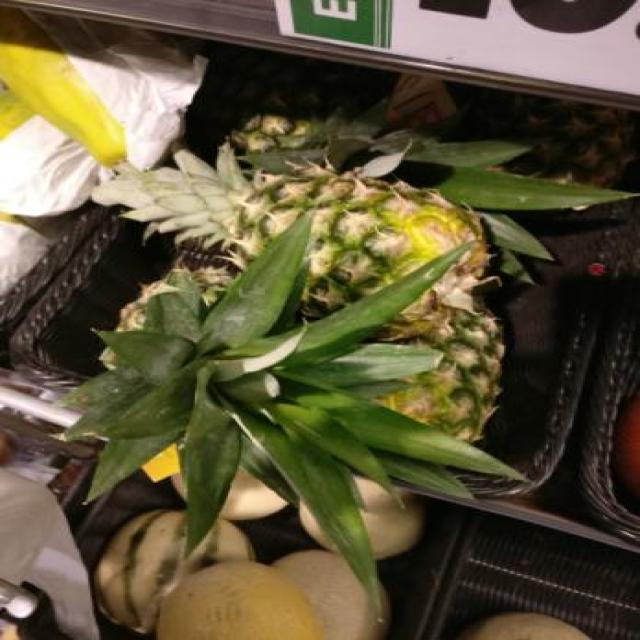pineapple: (70, 216, 520, 592), (100, 146, 490, 323), (378, 308, 503, 441)
